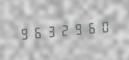nine: (17, 24, 29, 43), (69, 19, 81, 38)
six: (30, 22, 42, 41), (82, 18, 94, 37)
three: (43, 21, 55, 40)
two: (56, 20, 68, 39)
zero: (95, 17, 107, 36)
